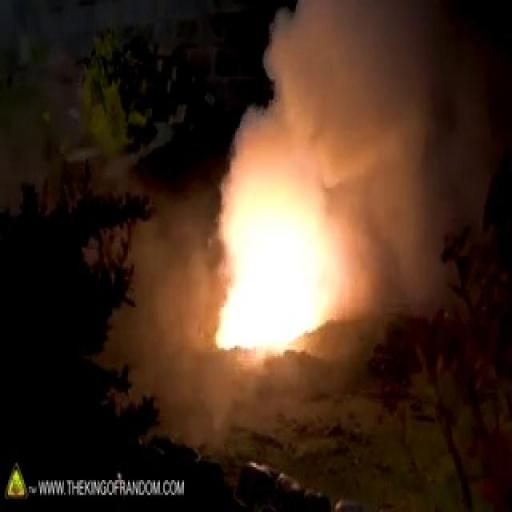smoke: (222, 194, 314, 344)
